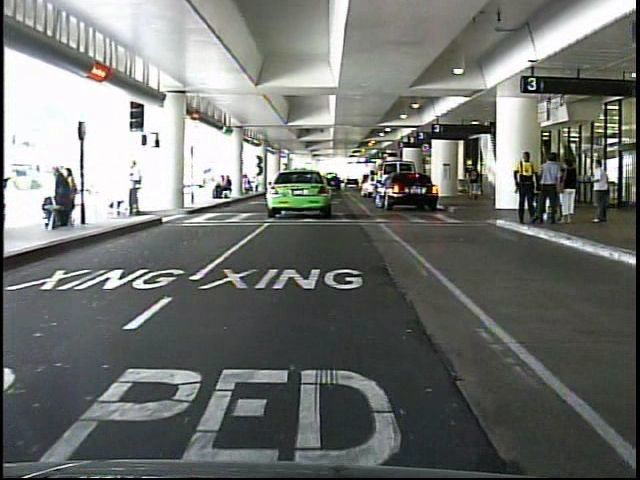person: (507, 149, 542, 233), (587, 154, 618, 226), (117, 158, 150, 224), (534, 149, 561, 227), (559, 156, 576, 229), (464, 159, 485, 204)
